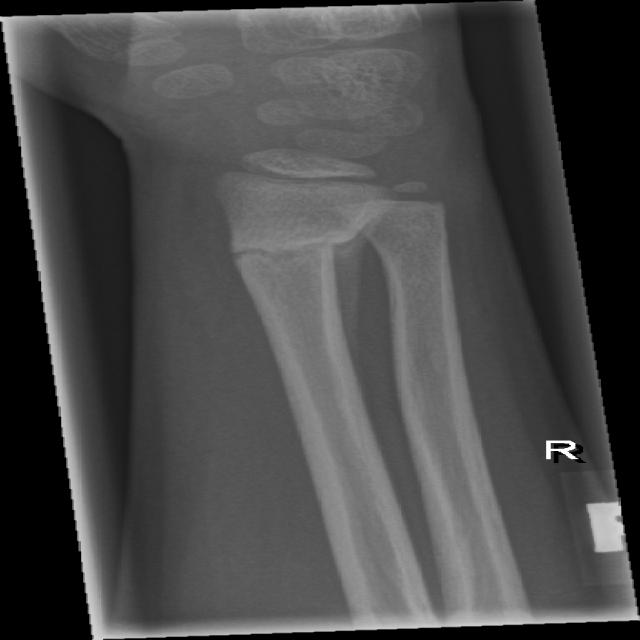radius fracture: (172, 200, 370, 302)
